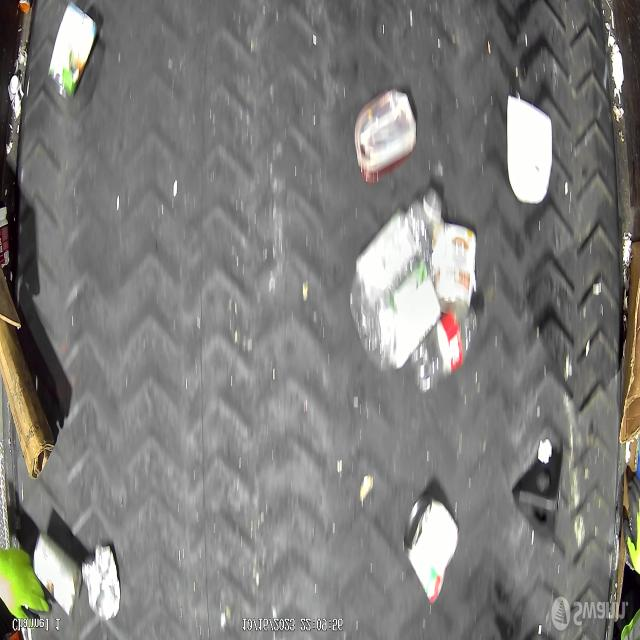can: (407, 497, 461, 604), (48, 1, 99, 102), (33, 532, 82, 620), (436, 222, 478, 315), (82, 545, 121, 622)
plastic_bottle: (353, 186, 442, 372), (412, 306, 478, 394)
